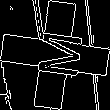M_W: (27, 28, 83, 82)
